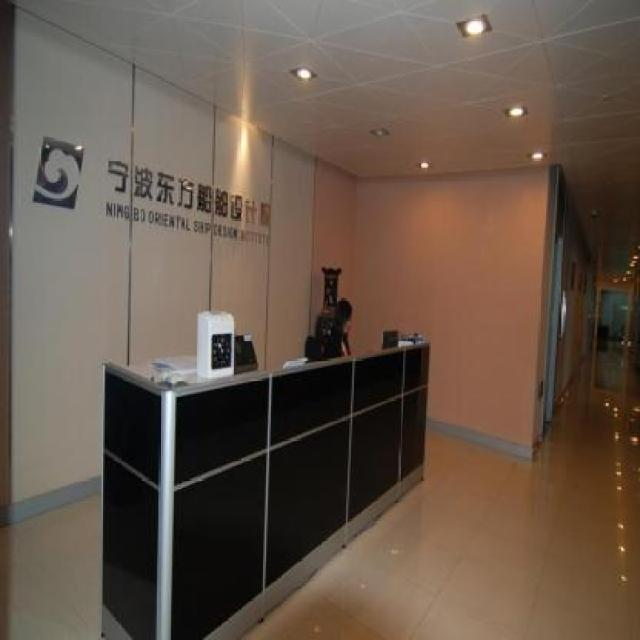frontdesk: (89, 314, 437, 639)
